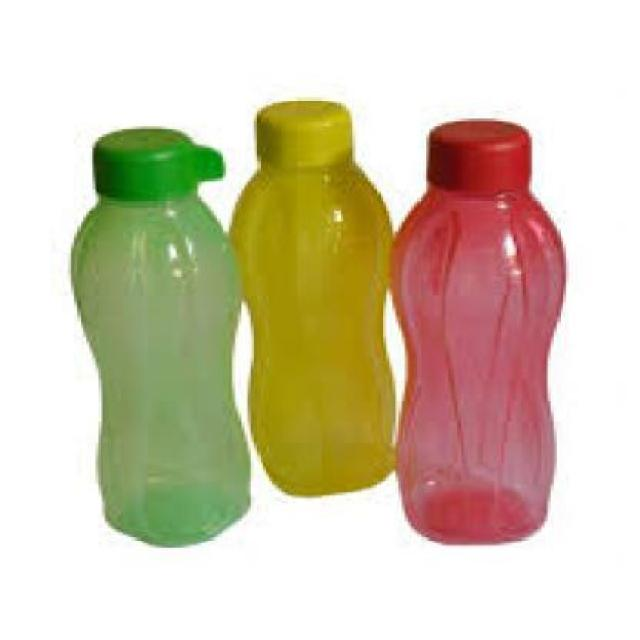Drinking: (58, 119, 254, 556), (398, 100, 572, 554), (250, 92, 399, 496)
